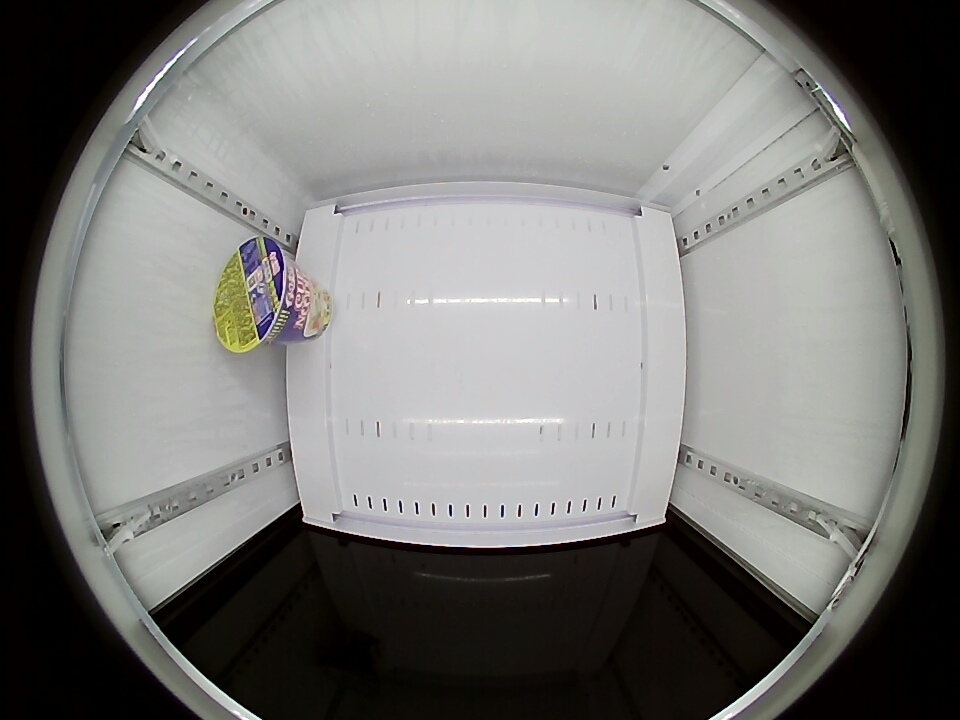heweidao: (213, 237, 296, 353)
